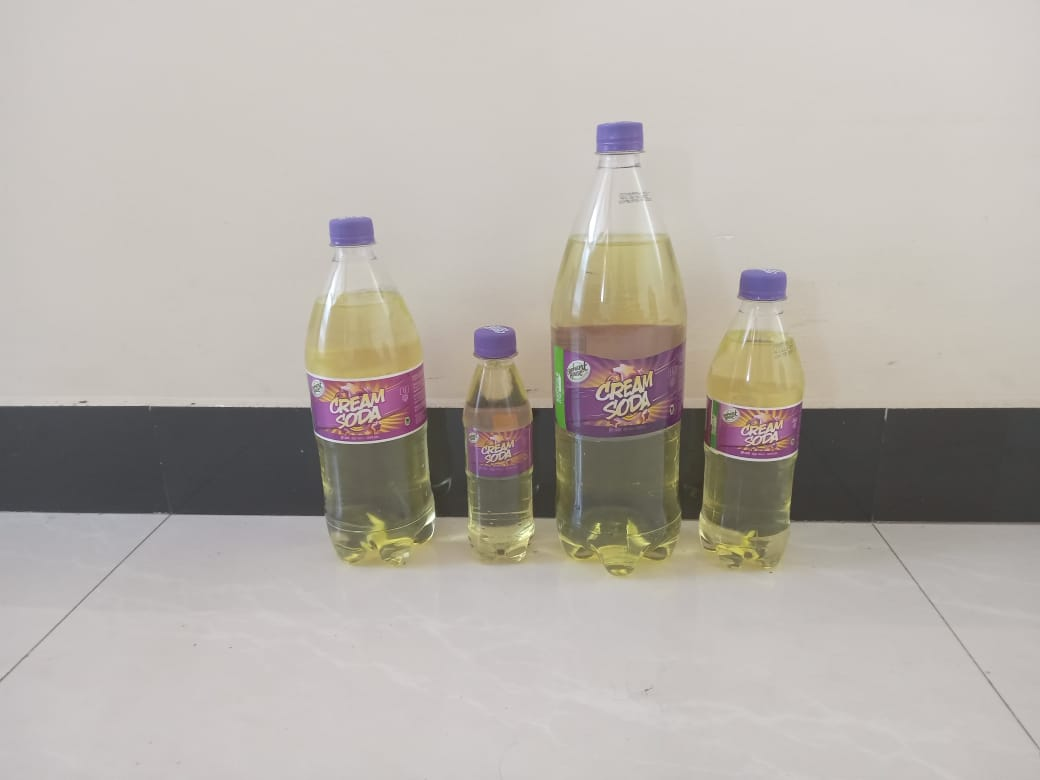L: (552, 121, 691, 579)
M: (305, 219, 436, 568)
S: (700, 271, 801, 568)
Xs: (461, 324, 536, 566)
